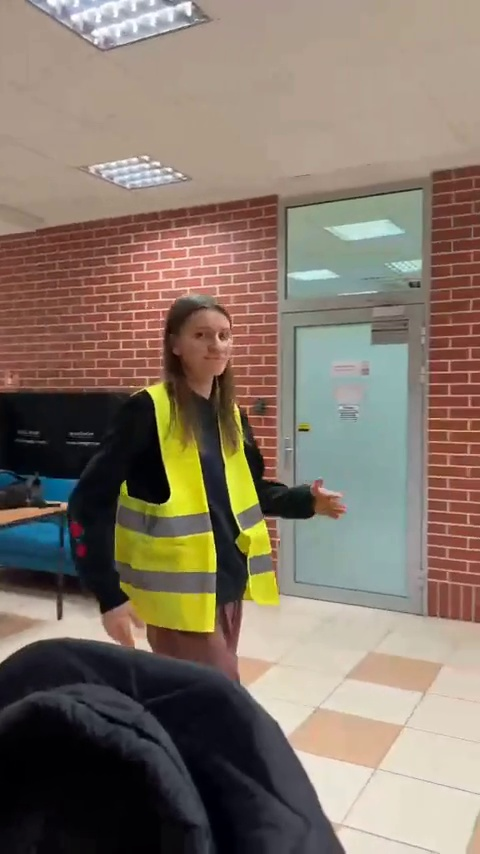vest: (75, 290, 341, 682)
